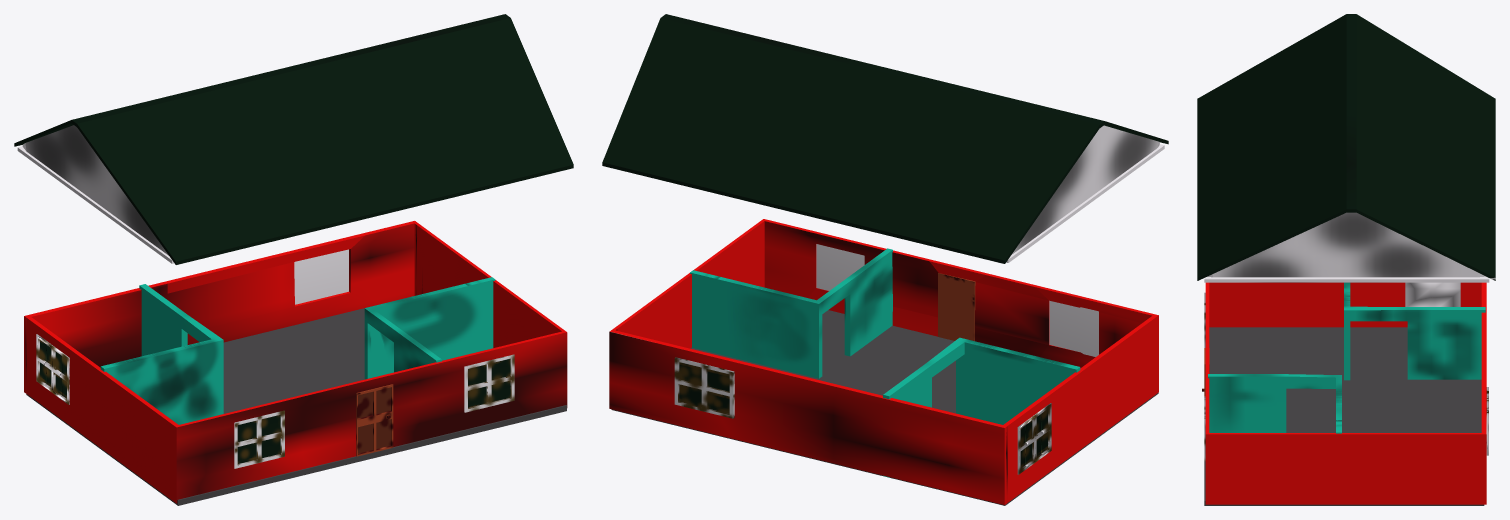
The model's file is casaritual.fbx.
The picture shows the model from 3 angles, left to right: view 1: azimuth 30°, elevation 25°; view 2: azimuth 150°, elevation 25°; view 3: azimuth 270°, elevation 25°; orthographic projection. The views are drawn at different scales.
Parts seen in each view (by area): view 1: Cube.003, Cube.008, Cube.004, Cube.001; view 2: Cube.003, Cube.008, Cube.001, Cube.004; view 3: Cube.008, Cube.003, Cube.004, Cube.001.
Boxes of the visible parts, x1=… form: Cube.003: x1=24, y1=220, x2=567, y2=505; Cube.008: x1=14, y1=14, x2=573, y2=264; Cube.004: x1=100, y1=284, x2=223, y2=424; Cube.001: x1=364, y1=277, x2=495, y2=379; Cube.003: x1=609, y1=219, x2=1158, y2=505; Cube.008: x1=602, y1=14, x2=1168, y2=263; Cube.001: x1=690, y1=248, x2=892, y2=378; Cube.004: x1=883, y1=337, x2=1080, y2=477; Cube.008: x1=1197, y1=14, x2=1495, y2=282; Cube.003: x1=1202, y1=282, x2=1488, y2=505; Cube.004: x1=1344, y1=282, x2=1485, y2=380; Cube.001: x1=1208, y1=374, x2=1341, y2=433.
Bounding box in the file's own units: 7652 × 5588 × 4939.
